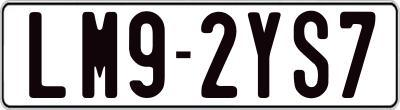2: (200, 12, 237, 104)
7: (340, 9, 375, 101)
9: (126, 11, 162, 104)
L: (27, 10, 64, 100)
M: (80, 9, 121, 96)
S: (292, 9, 328, 99)
Y: (248, 10, 287, 100)
